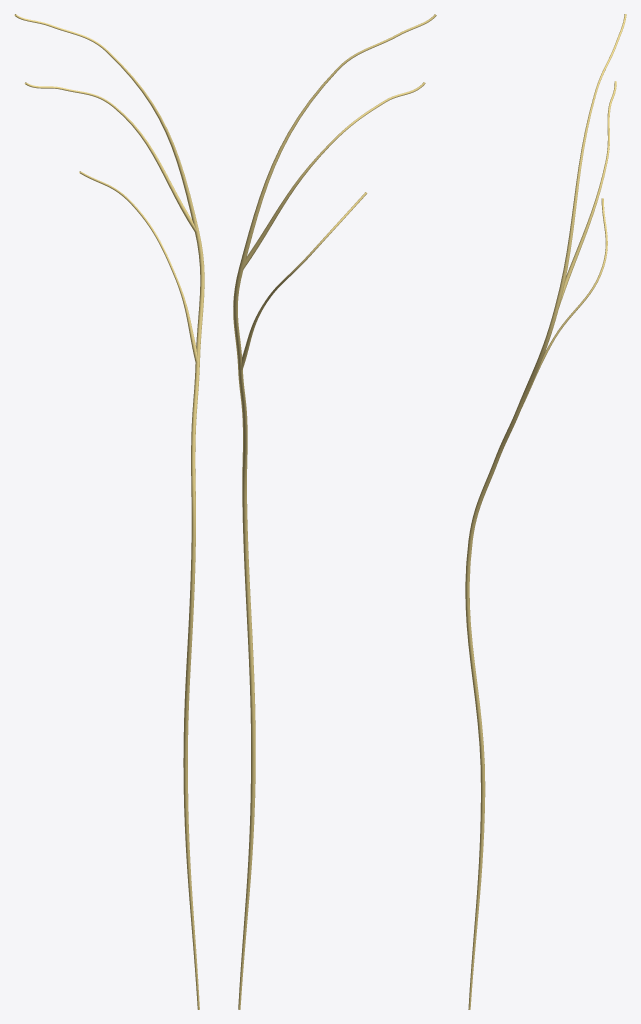
3 views of the same model, side by side, from view 1: azimuth 30°, elevation 25°; view 2: azimuth 210°, elevation 25°; view 3: azimuth 270°, elevation 25° (orthographic). The views are drawn at different scales.
Visible parts, largest first — view 1: ZA_7c17d5e5c5b45b69; view 2: ZA_7c17d5e5c5b45b69; view 3: ZA_7c17d5e5c5b45b69.
Boxes of the visible parts, <box> form: ZA_7c17d5e5c5b45b69: <box>14,14,204,1009</box>; ZA_7c17d5e5c5b45b69: <box>233,14,436,1009</box>; ZA_7c17d5e5c5b45b69: <box>465,14,626,1009</box>.
Bounding box in the file's own units: 0.0773 × 0.4725 × 0.073.
